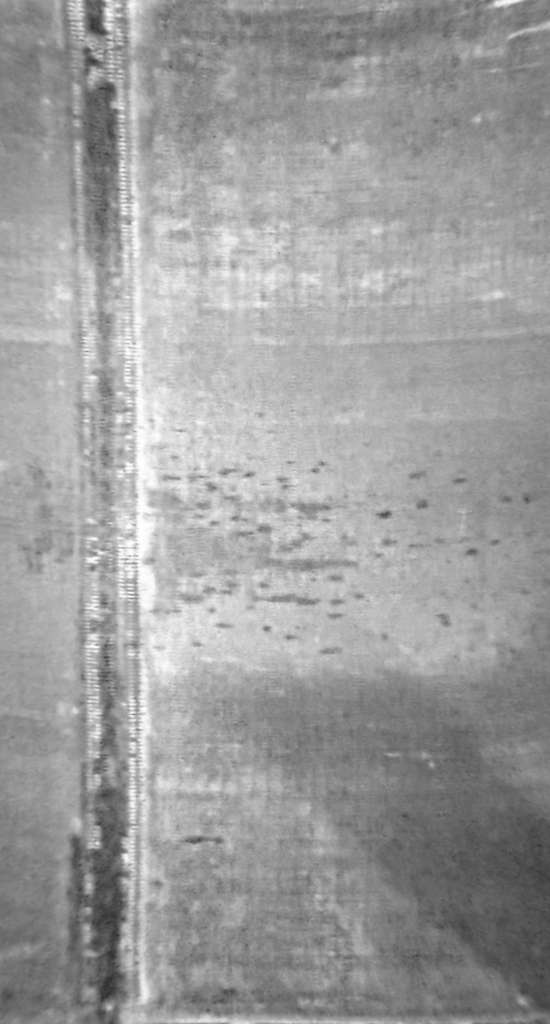splice: (54, 2, 150, 1024)
